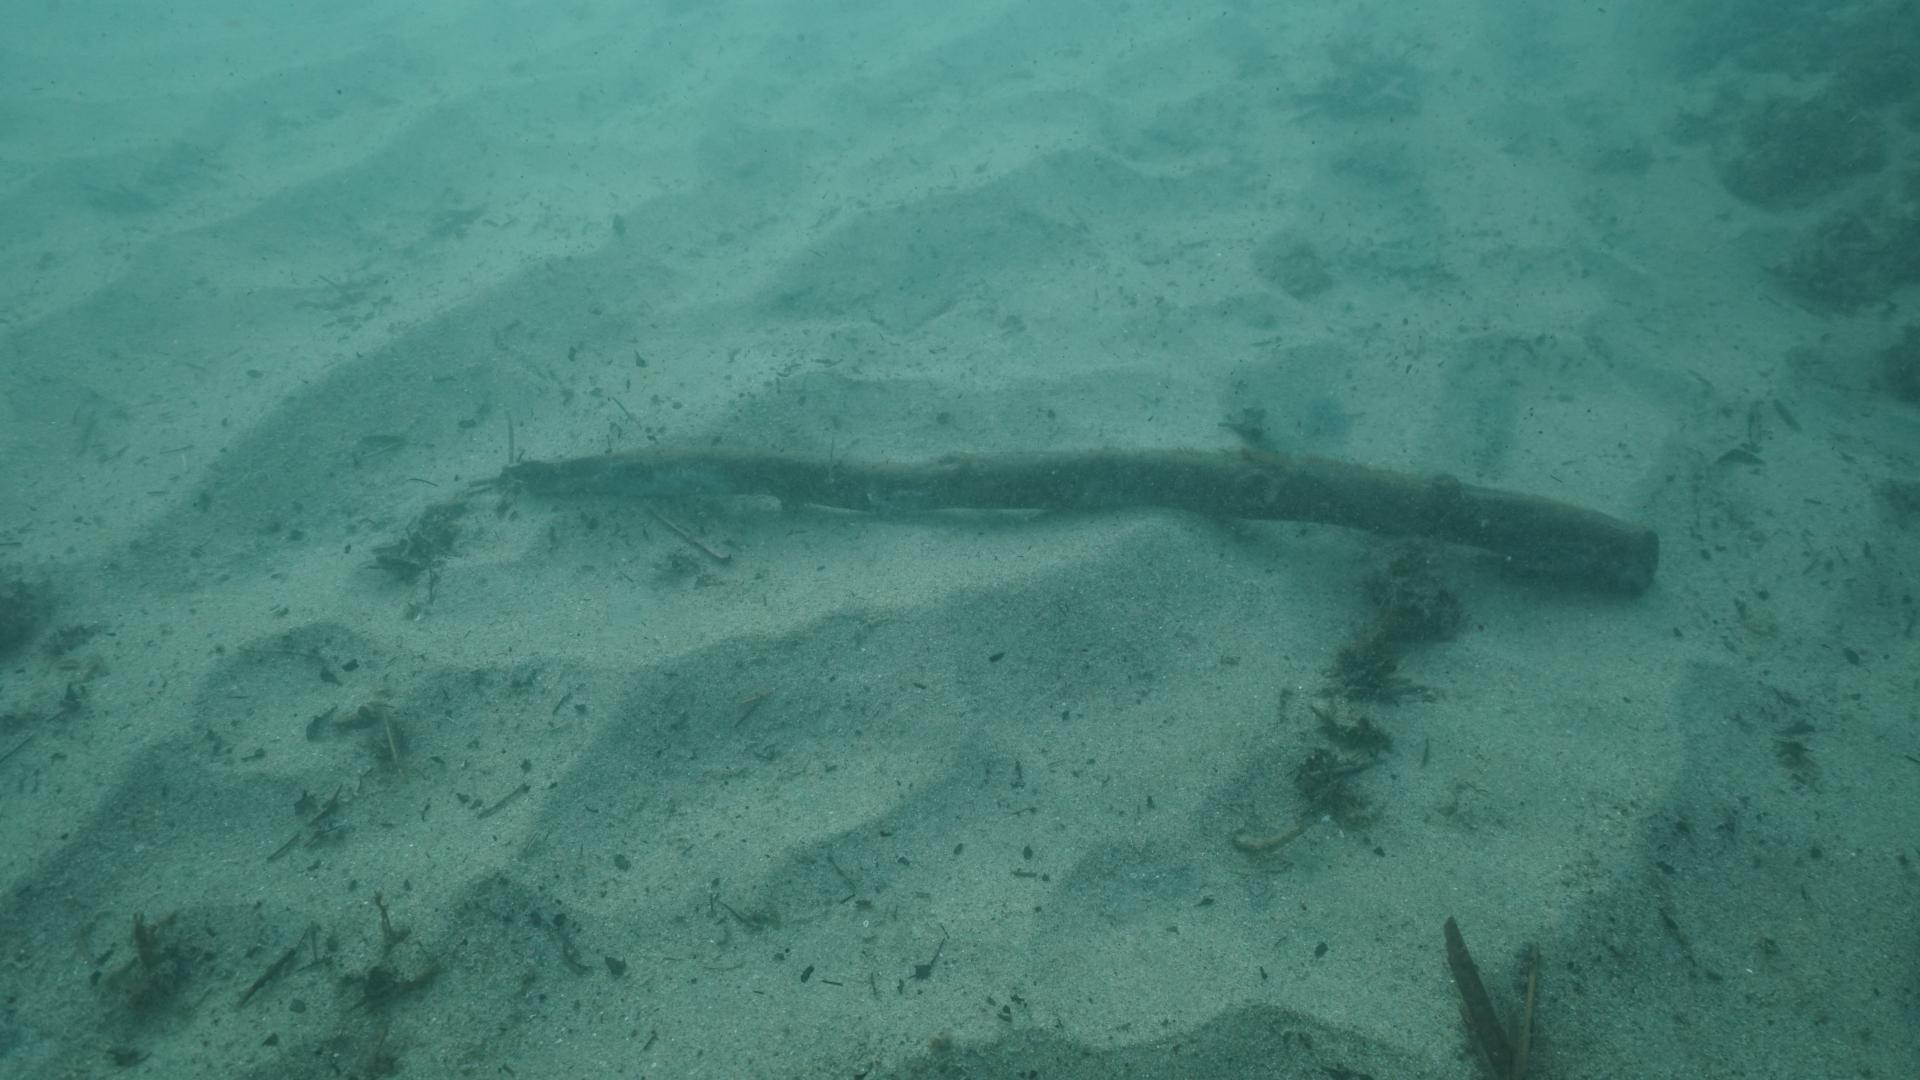wood: (498, 442, 1662, 593)
